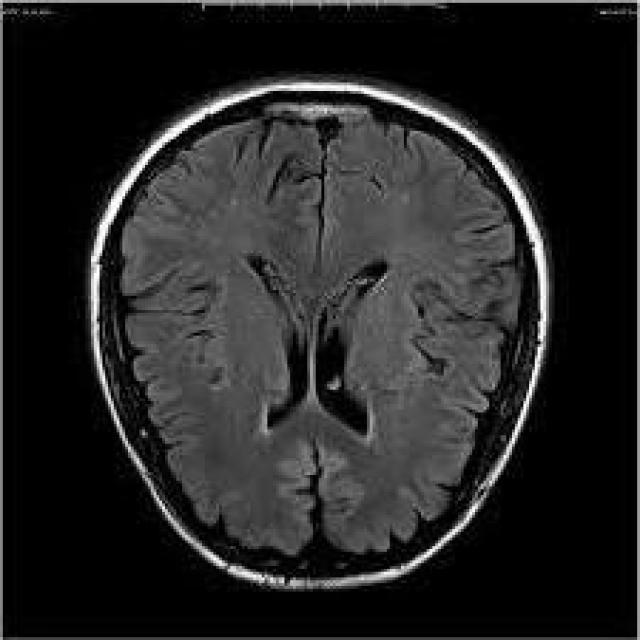notumor: (88, 77, 549, 589)
